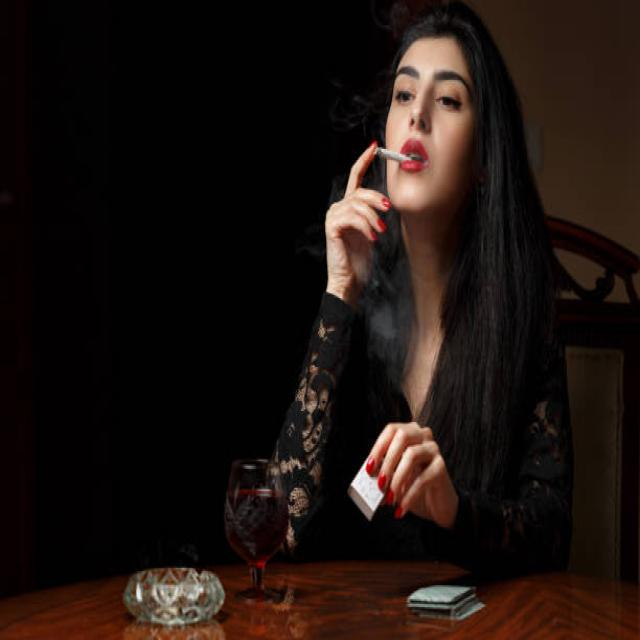Cigarette: (376, 141, 419, 166)
